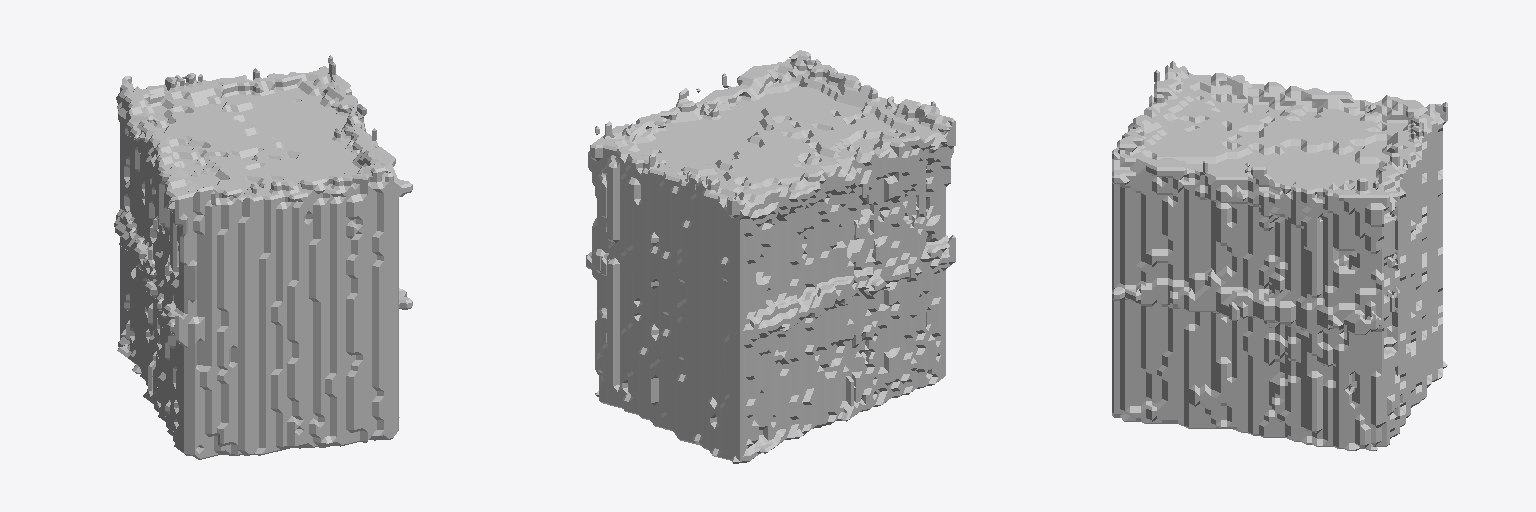
File: gen3_colored.obj
The picture shows the model from 3 angles: view 1: azimuth 30°, elevation 25°; view 2: azimuth 150°, elevation 25°; view 3: azimuth 270°, elevation 25°; orthographic projection.
Parts seen in each view (by area): view 1: gen3.obj; view 2: gen3.obj; view 3: gen3.obj.
Boxes of the visible parts, x1,y1,x2,y2 form: gen3.obj: [114, 55, 412, 459]; gen3.obj: [586, 50, 955, 463]; gen3.obj: [1112, 61, 1447, 450].
Size of the model in its own units: 58 by 56 by 63.